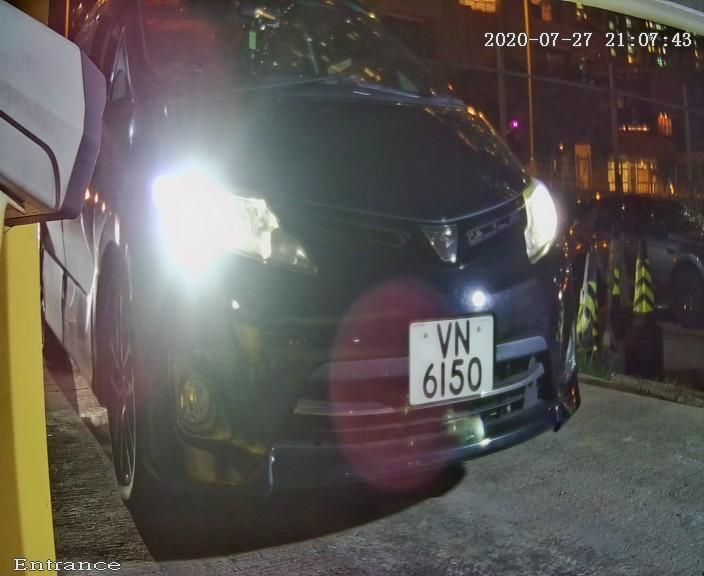privatecar: (39, 2, 600, 497)
